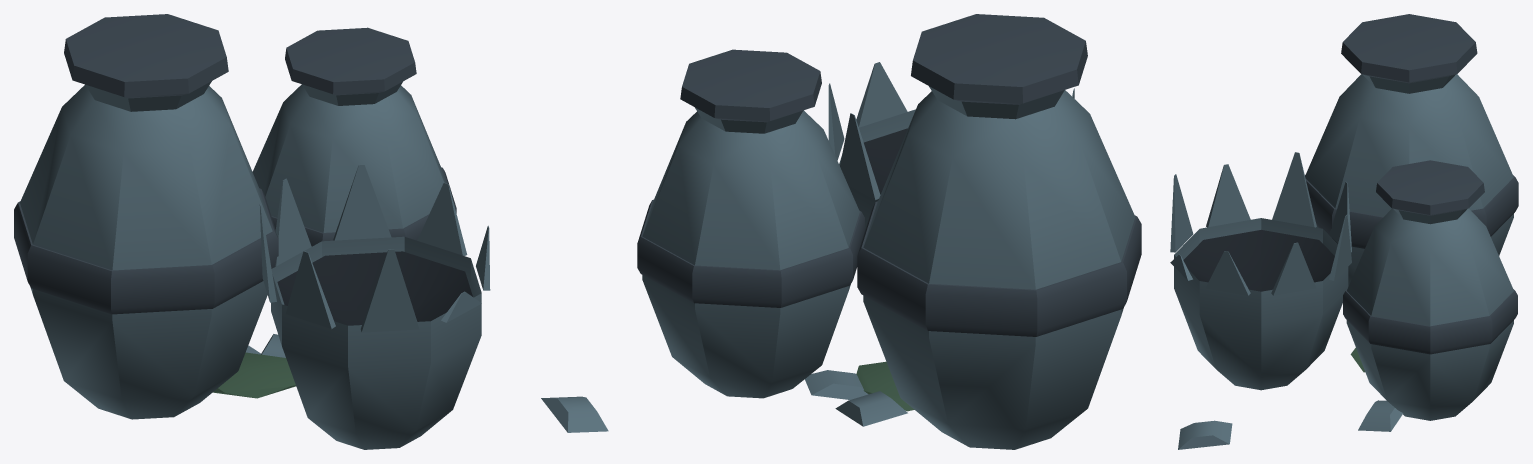
Rendered from crypt_urns.fbx.
3 renders of one model, left to right at view 1: azimuth 30°, elevation 25°; view 2: azimuth 150°, elevation 25°; view 3: azimuth 270°, elevation 25°, orthographic. The views are drawn at different scales.
Visible parts, largest first — view 1: crypt_urns; view 2: crypt_urns; view 3: crypt_urns.
Boxes of the visible parts, x1,y1,x2,y2 form: crypt_urns: [14, 14, 608, 449]; crypt_urns: [637, 14, 1141, 449]; crypt_urns: [1170, 14, 1518, 449].
Size of the model in its own units: 1.93 by 1.49 by 1.65.
